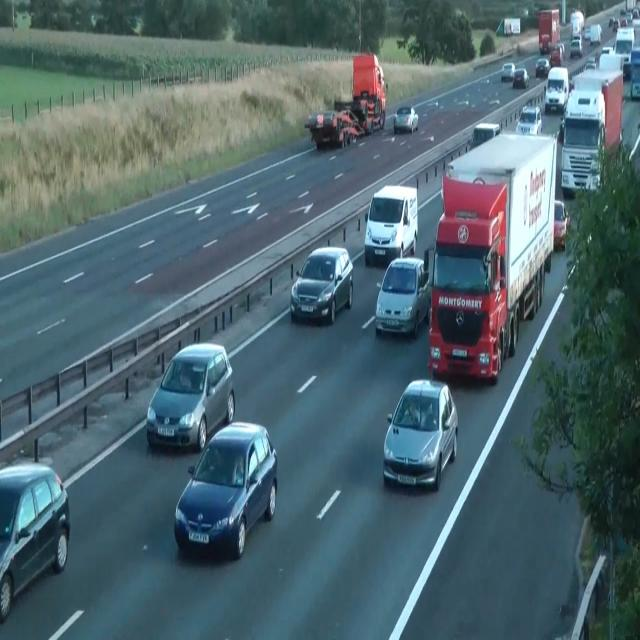bus: (0, 460, 70, 620), (382, 378, 458, 492), (553, 199, 570, 251), (515, 105, 542, 135), (392, 106, 418, 133), (585, 158, 601, 194), (513, 67, 529, 89), (501, 62, 515, 82), (535, 57, 549, 77), (590, 23, 602, 45), (570, 37, 582, 58), (584, 56, 596, 71), (584, 27, 590, 40)
jeep: (174, 420, 278, 559), (145, 342, 235, 452), (290, 244, 354, 324), (374, 253, 430, 338), (364, 184, 418, 266), (544, 66, 568, 112), (468, 122, 500, 151)
minibus: (427, 132, 558, 383), (559, 68, 623, 198), (304, 52, 388, 150), (352, 51, 387, 130), (538, 9, 560, 54), (625, 47, 639, 100), (496, 17, 520, 36), (570, 10, 584, 40), (626, 0, 640, 20)
